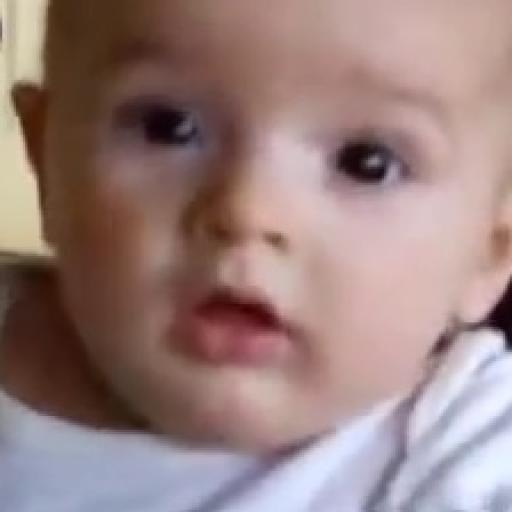Autism: (94, 14, 474, 470)
